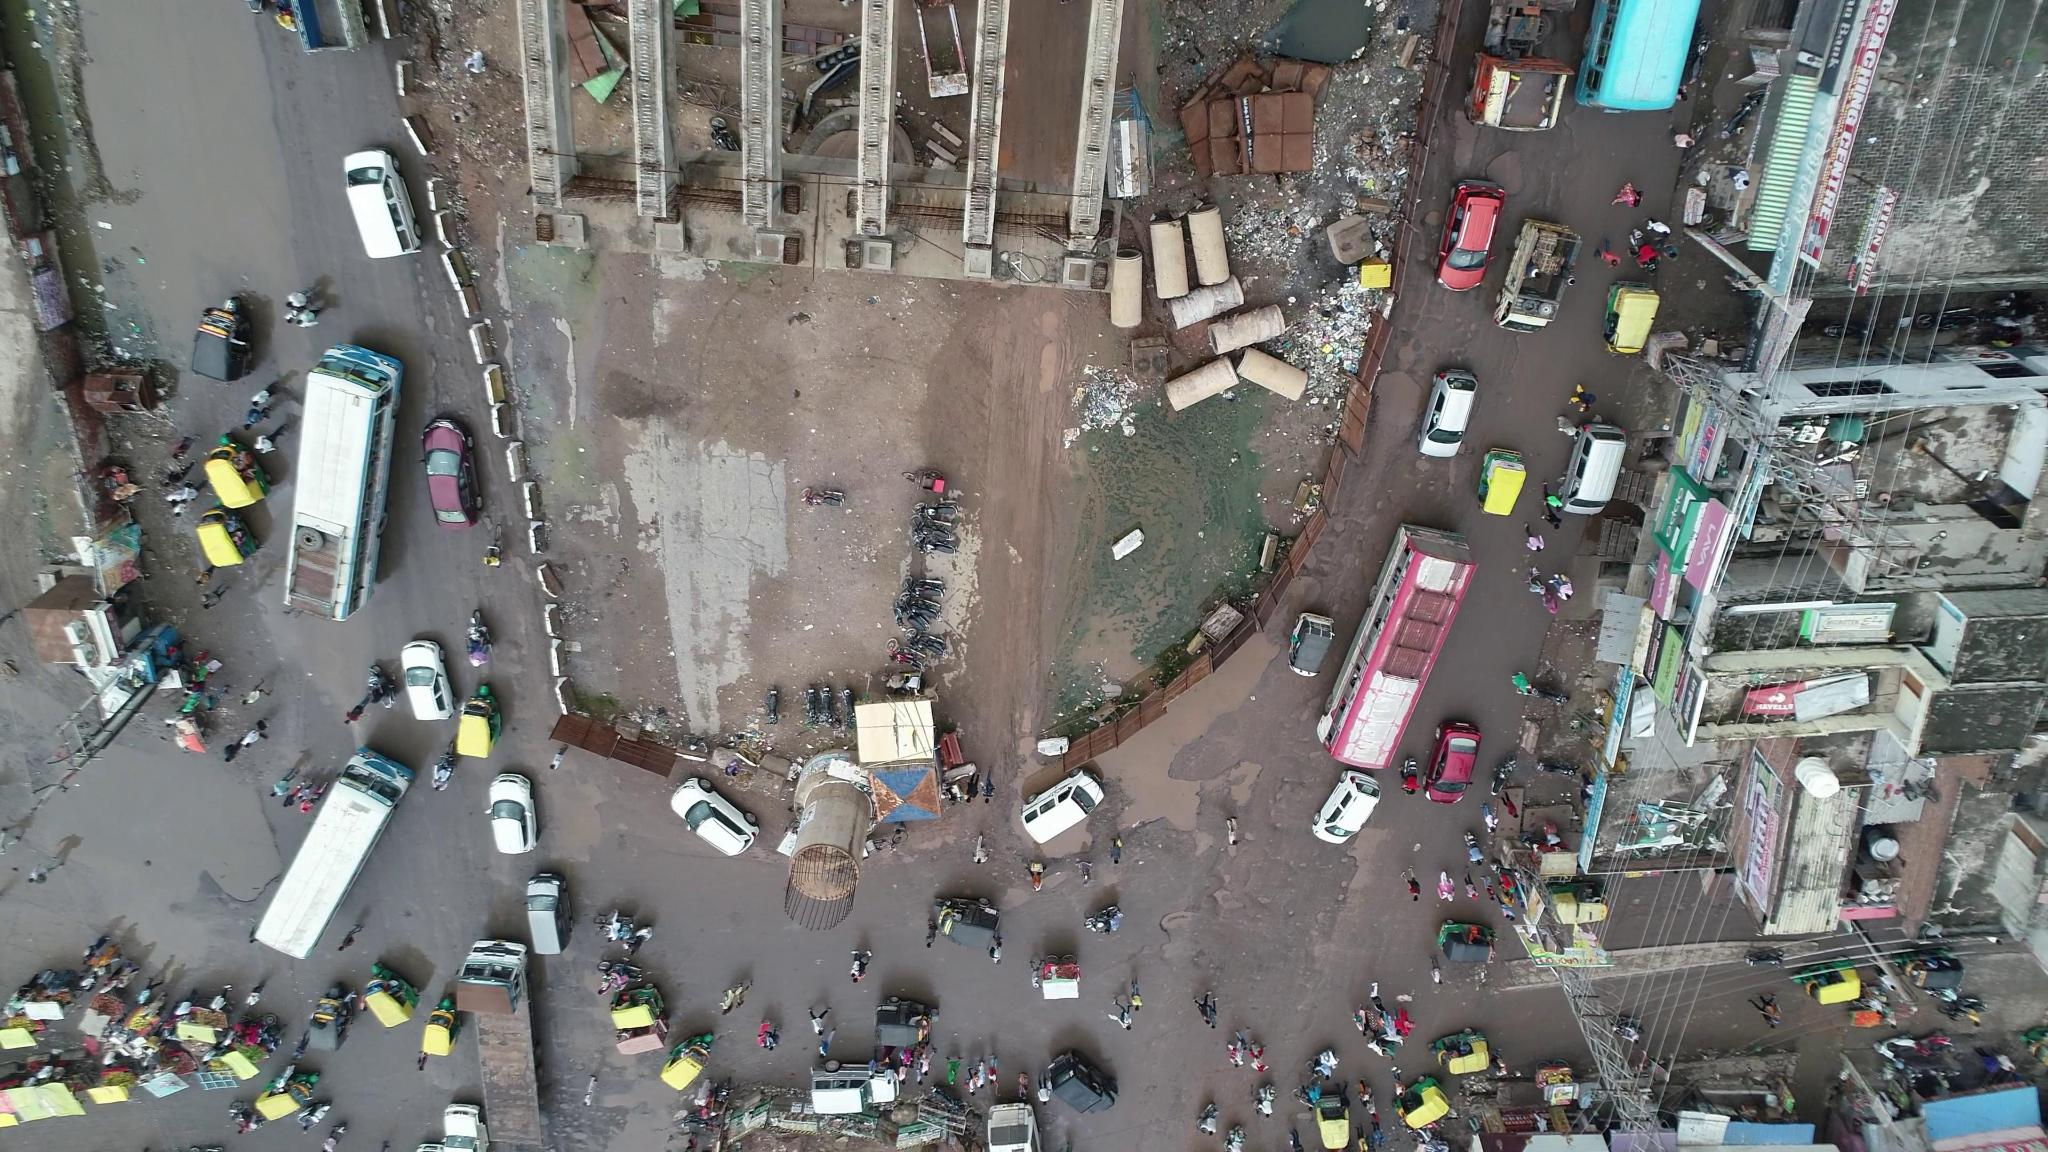Potholes: (405, 271, 460, 374)
